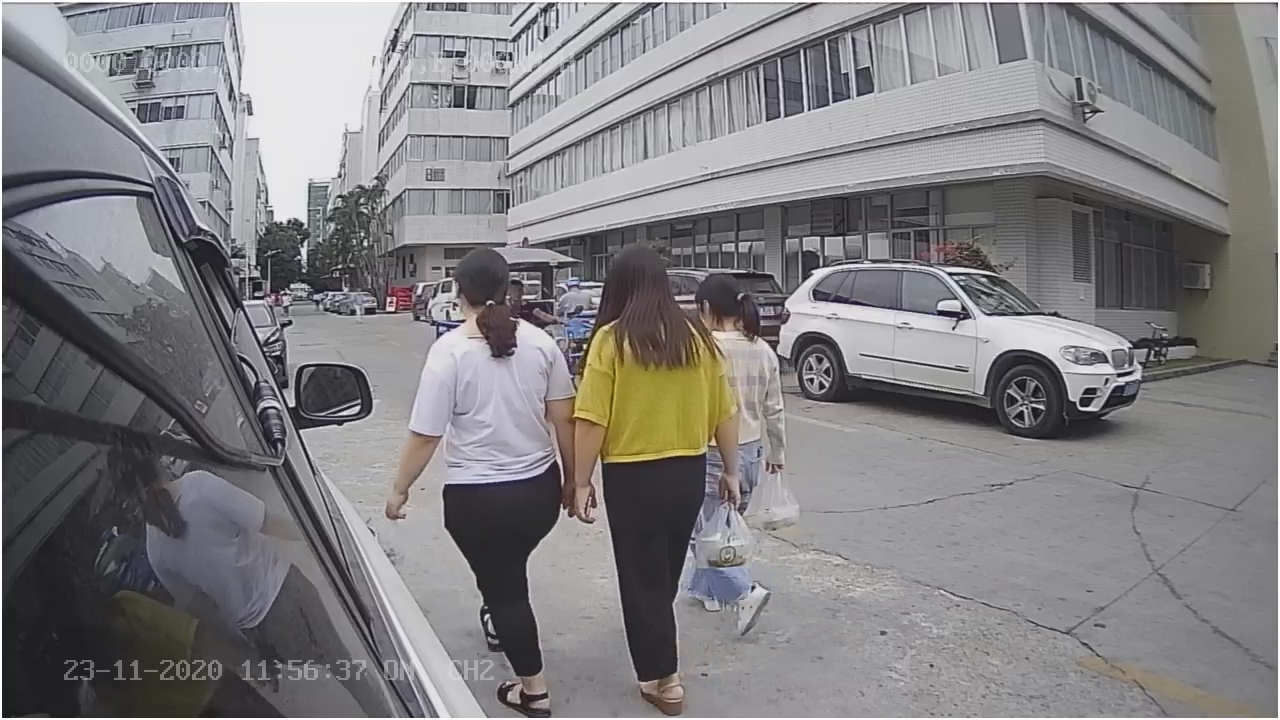person: (376, 234, 583, 715), (573, 241, 718, 715)
